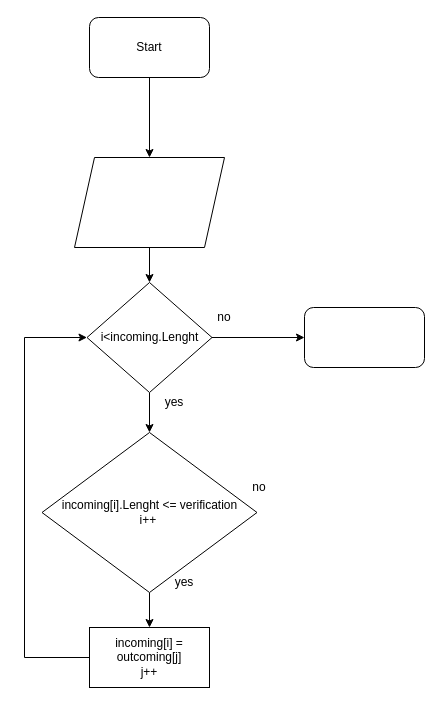
Some shapes in this 442 by 705 pixel diagram are drawn without their labels. The shapes that lost their labels are listed below. From the top down, each one's box as (x1, y1, x2, y2) in pixels, then its label:
(74, 156, 224, 248): str incoming [ ] str outgoing [ ] int verification = 3
(304, 306, 424, 368): Console.Writeline {outgoing [ ]}
